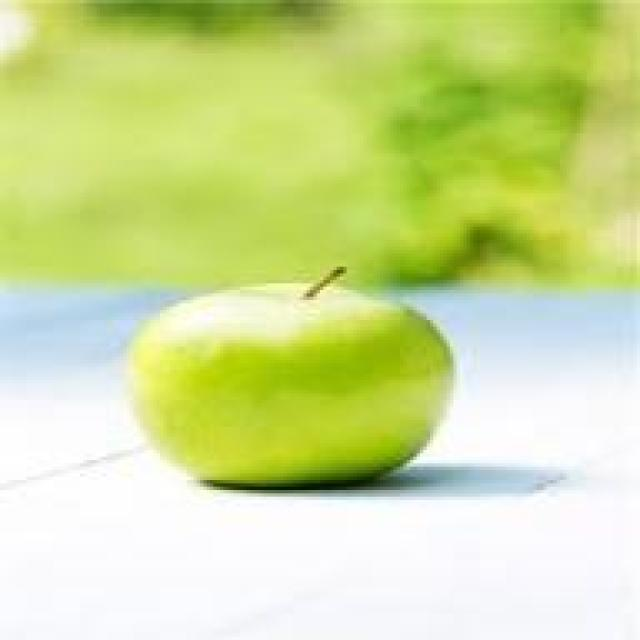apple: (126, 277, 466, 500)
